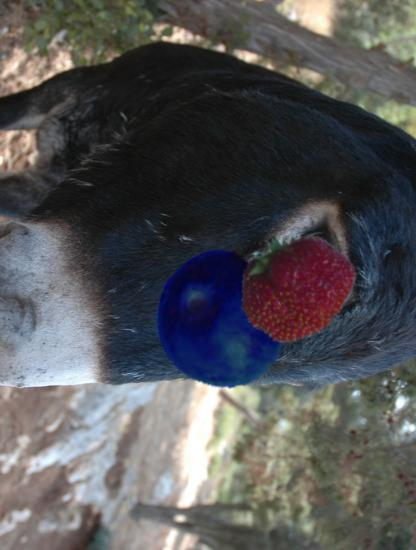Huckleberry: (154, 253, 290, 389)
Strawberry: (235, 224, 357, 346)
